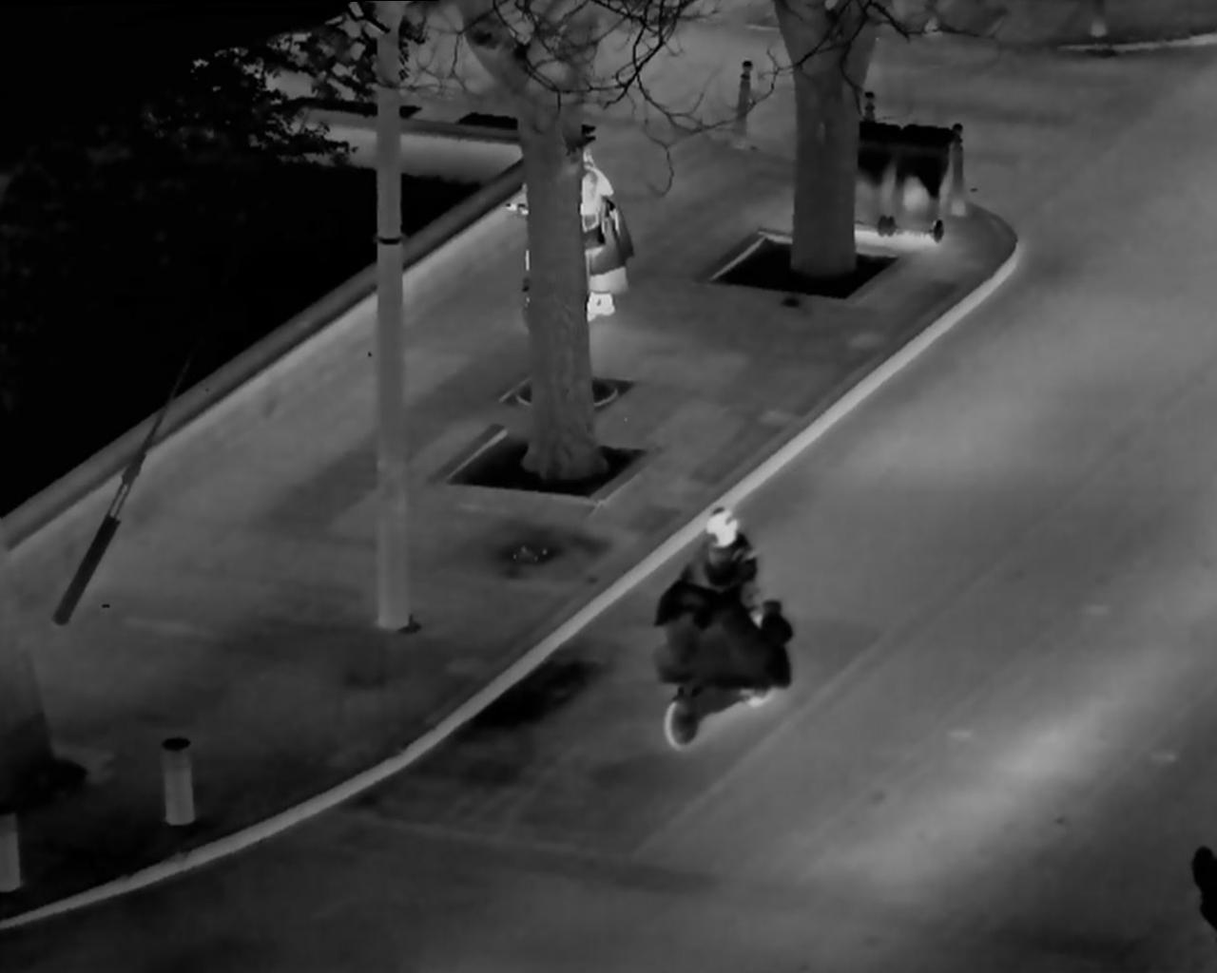person: (666, 484, 786, 733), (574, 125, 630, 323)
